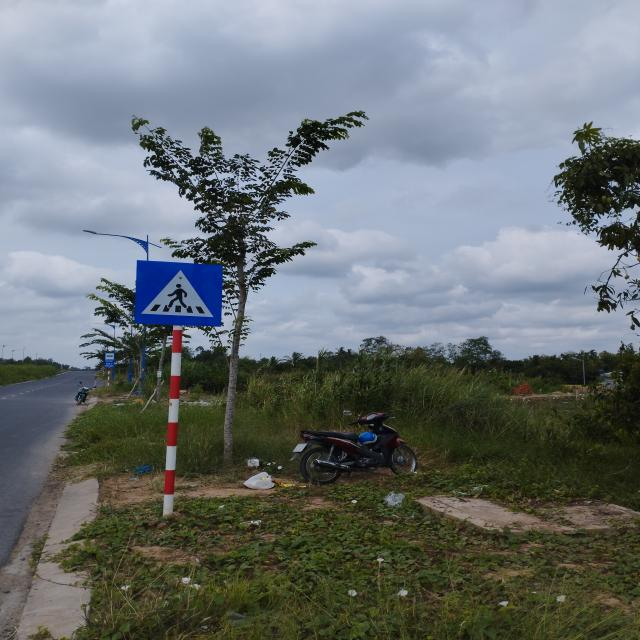Giao_Nhau_Duong_Uu_Tien: (136, 260, 223, 326)
